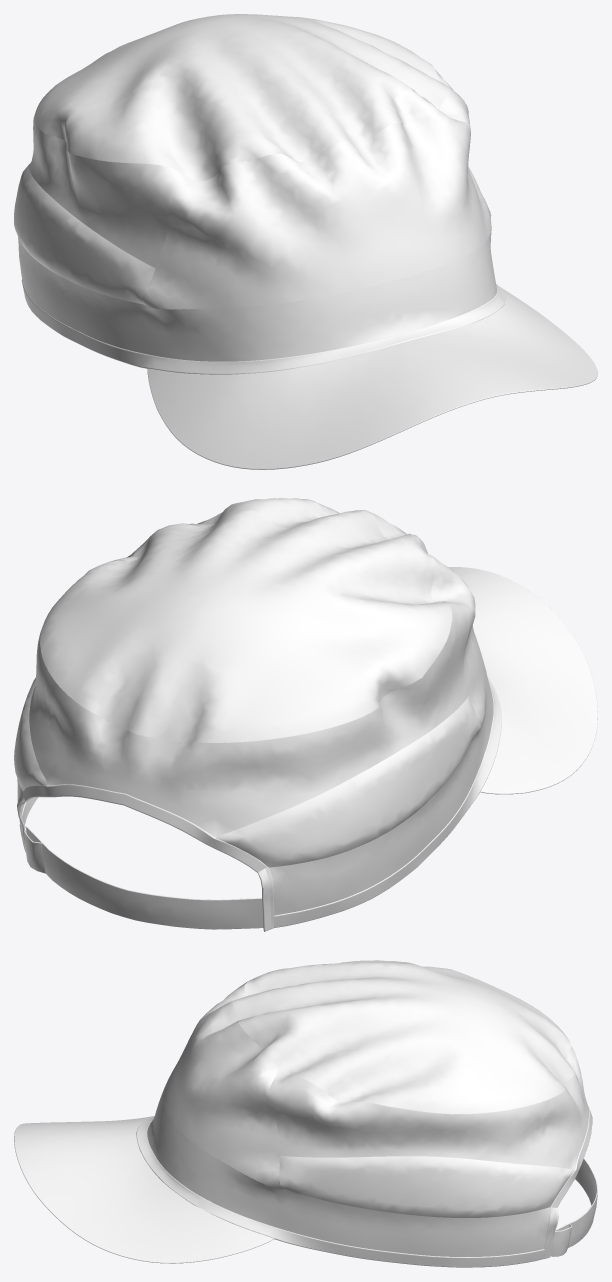
Rendered from kepka.glb.
3 renders of one model, top to bottom at view 1: azimuth 30°, elevation 25°; view 2: azimuth 150°, elevation 25°; view 3: azimuth 270°, elevation 25°, orthographic. The views are drawn at different scales.
Parts seen in each view (by area): view 1: kepka1; view 2: kepka1; view 3: kepka1.
Part boxes in pixels (left/top/right/bottom): kepka1: left=14, top=14, right=597, bottom=469; kepka1: left=14, top=498, right=597, bottom=931; kepka1: left=14, top=960, right=597, bottom=1267.
Size of the model in its own units: 1.7 by 1.19 by 2.75.
1 material, 1 textured.
